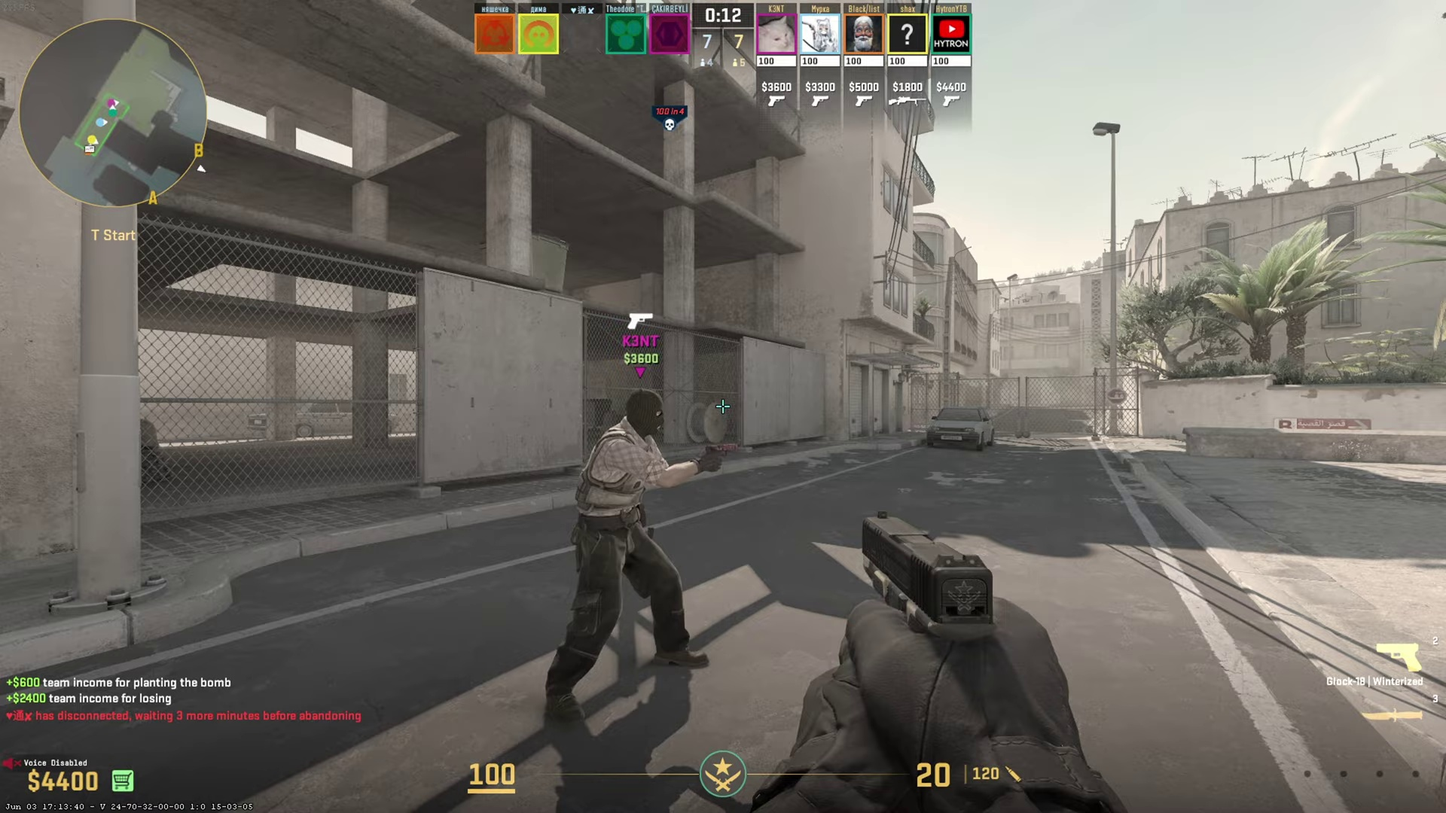Terrorist: (542, 390, 708, 723)
